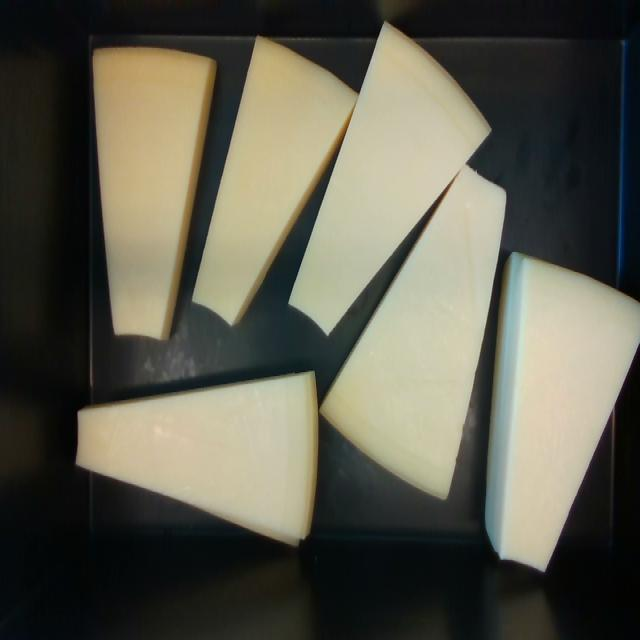Cheese: (289, 25, 488, 336), (322, 169, 504, 497), (486, 255, 639, 569), (195, 39, 353, 323), (77, 376, 316, 543), (94, 51, 213, 337)
